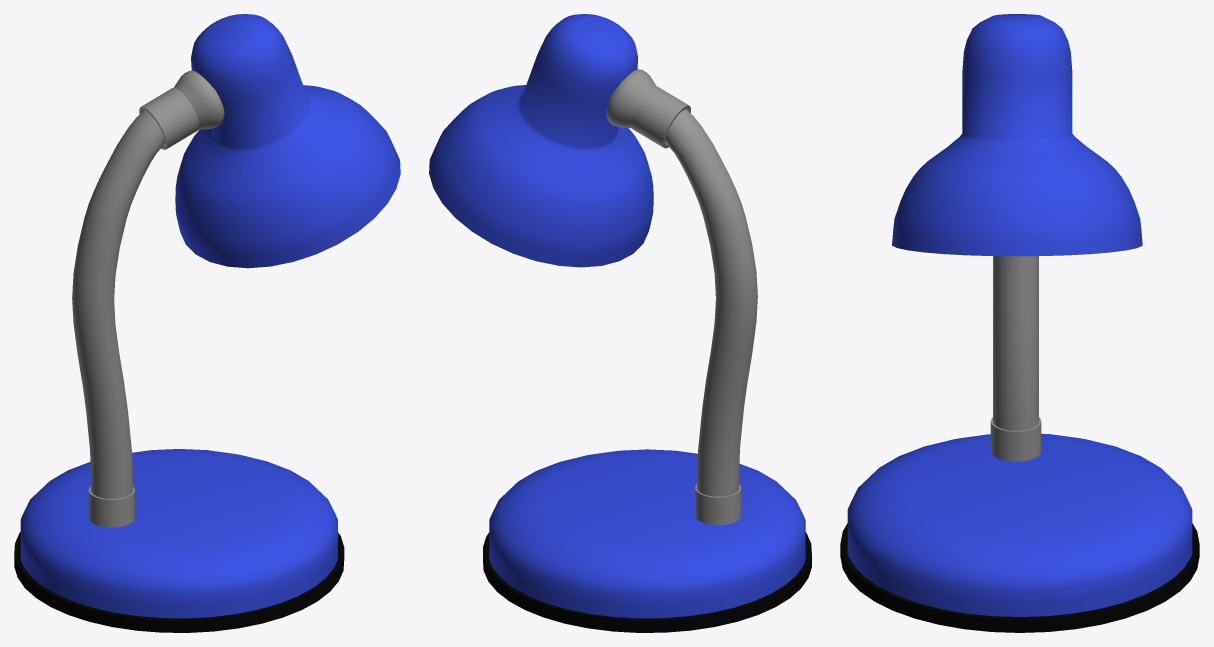
Rendered from Prop_DeskLamp_Blue.FBX.
3 views of the same model, side by side, from view 1: azimuth 30°, elevation 25°; view 2: azimuth 150°, elevation 25°; view 3: azimuth 270°, elevation 25° (orthographic). The views are drawn at different scales.
Parts seen in each view (by area): view 1: Baytek_Mall_Lamp; view 2: Baytek_Mall_Lamp; view 3: Baytek_Mall_Lamp.
Part boxes in pixels (box(x1,y1,x2,y2)): Baytek_Mall_Lamp: box(14, 14, 400, 632); Baytek_Mall_Lamp: box(429, 14, 811, 632); Baytek_Mall_Lamp: box(840, 14, 1199, 632).
Size of the model in its own units: 27.49 by 39.97 by 22.65.
